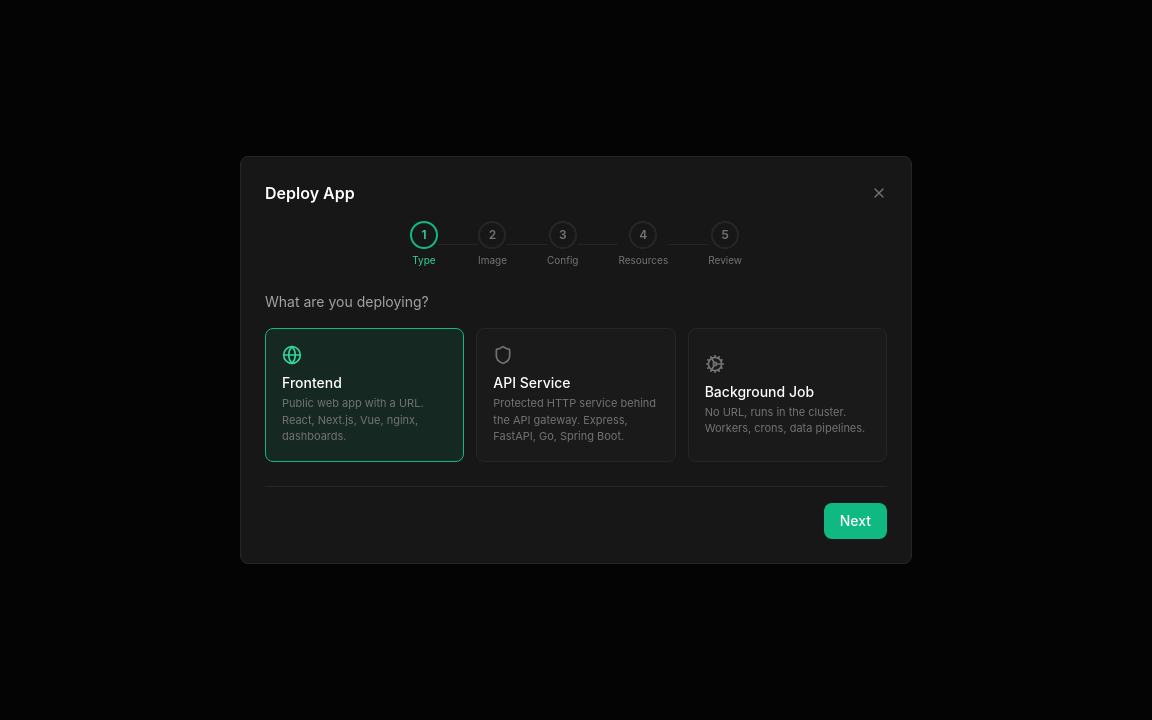
Test: DeployWizard (standalone) › shows no plan or upgrade text on any step
The width and height of the screenshot is (1152, 720).
Click the button "Next". click: (855, 521)
box: [824,503,887,539]
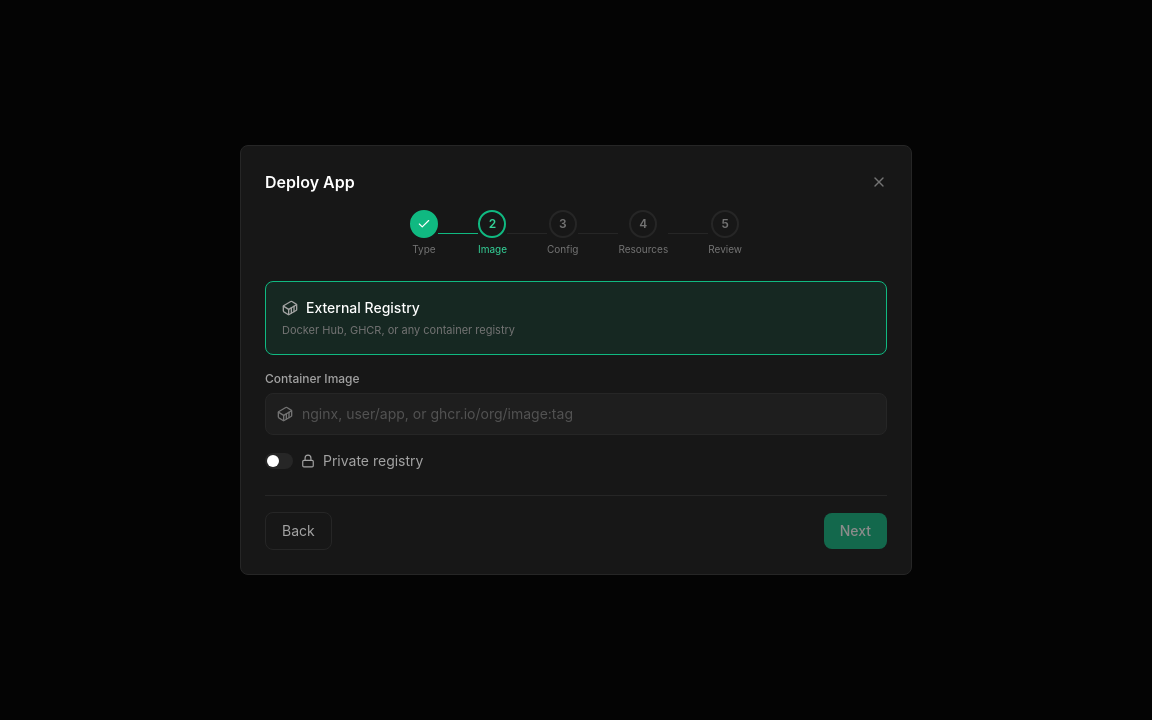
Type "nginx:1" into the field with placeholder "nginx, user/app, or ghcr.io/org/image:tag". click: (576, 414)
box: [265,393,887,435]
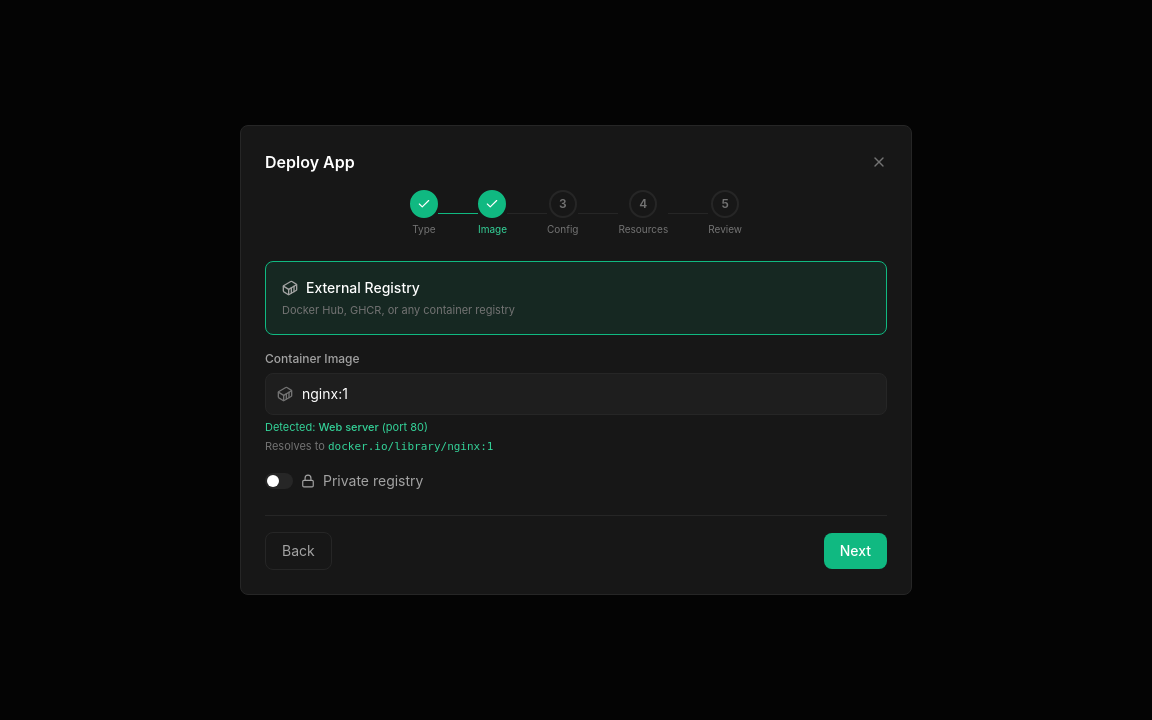
Click the button "Next". click: (855, 551)
box: [824,533,887,569]
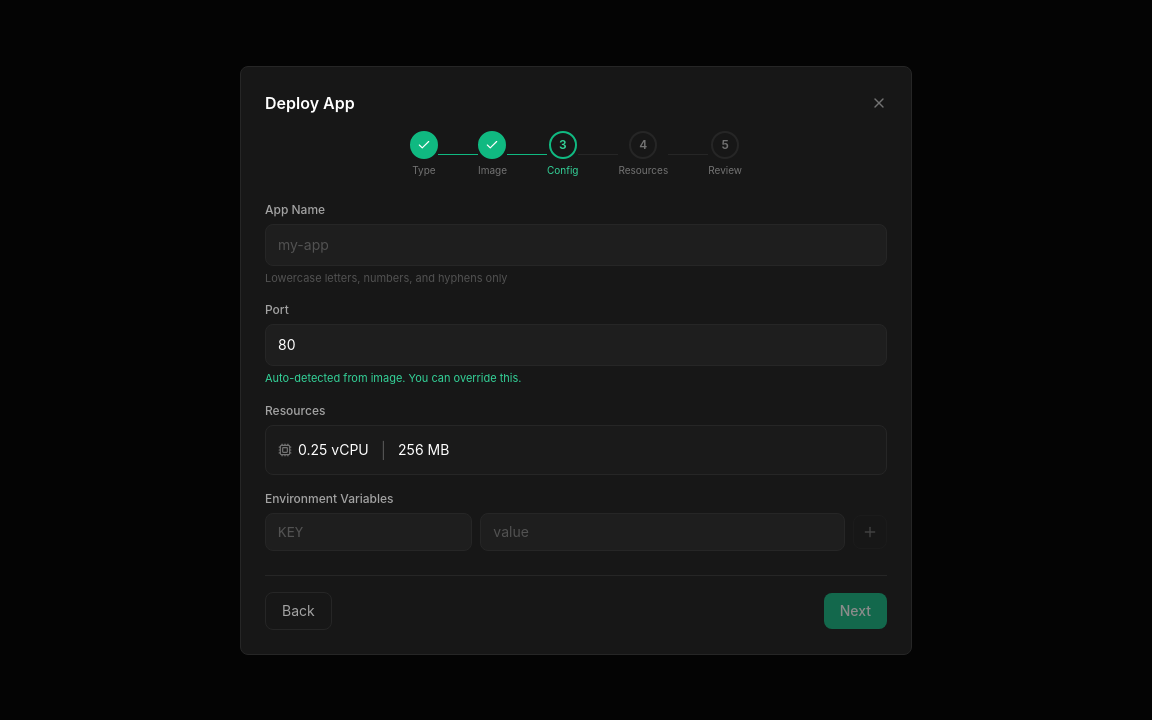
Type "web" into the field with placeholder "my-app". click: (576, 244)
box: [265,224,887,266]
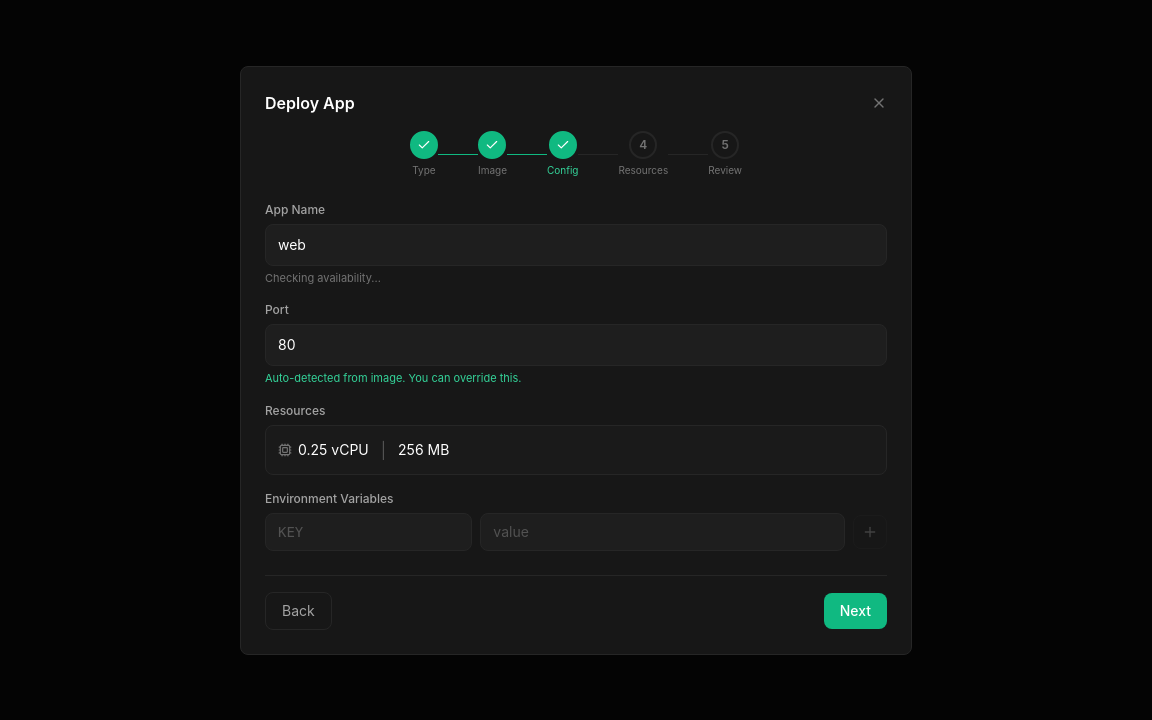
Click the button "Next". click: (855, 610)
box: [824,592,887,628]
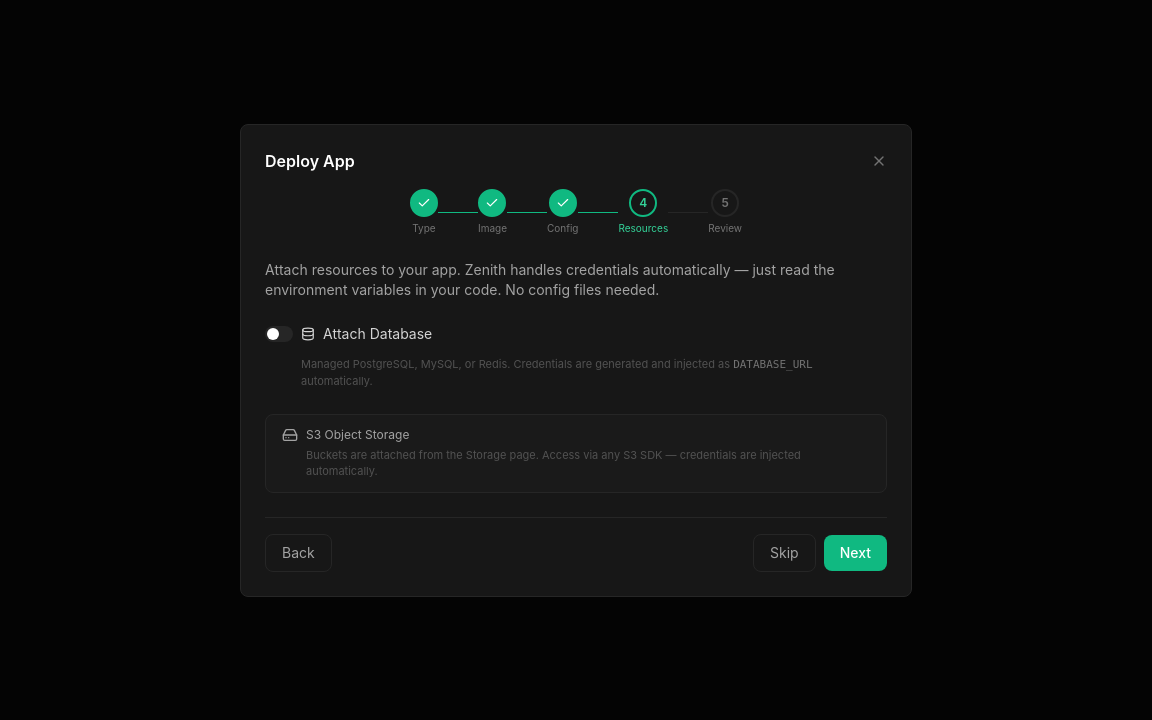
Now the text "S3 Object Storage" is shown, box [306,426,409,442]
Click the button "Next". click: (855, 552)
box: [824,534,887,570]
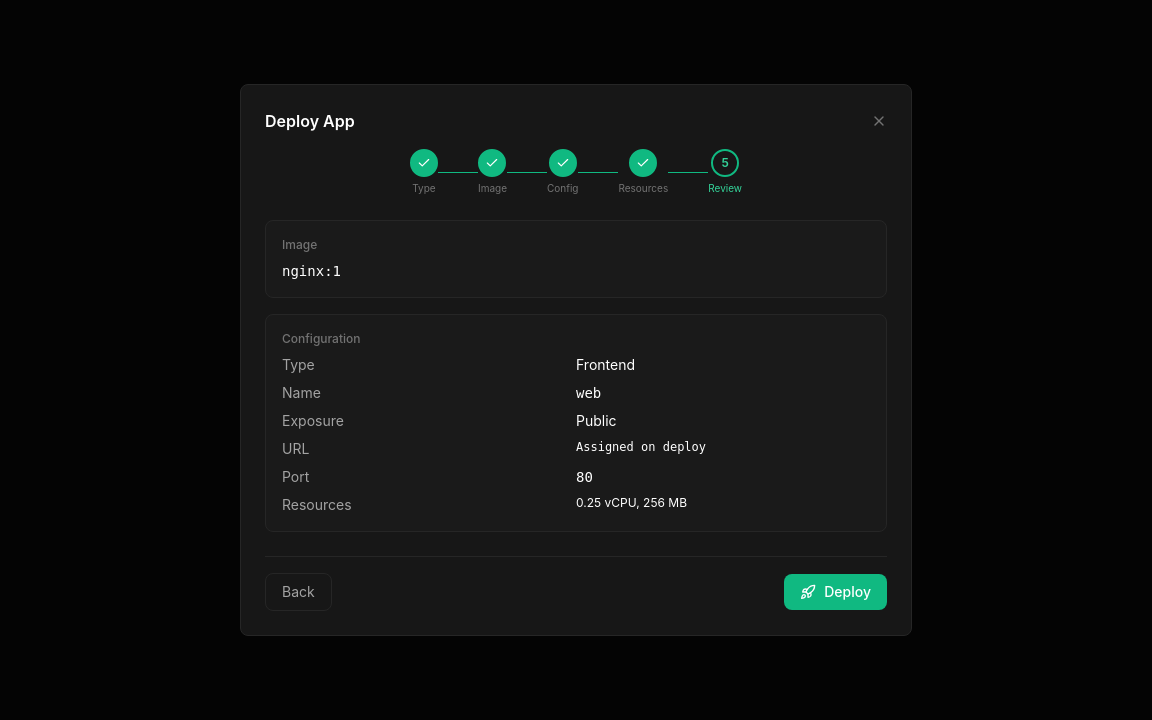
Now the text "nginx:1" is shown, box [282,263,341,279]
